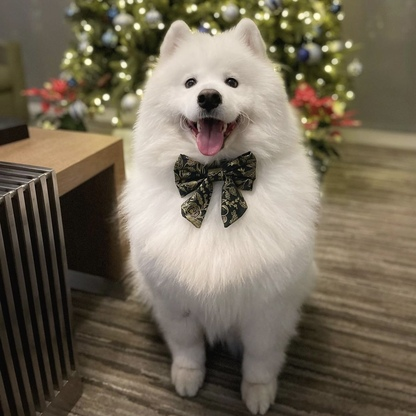samoyed: (110, 13, 329, 416)
